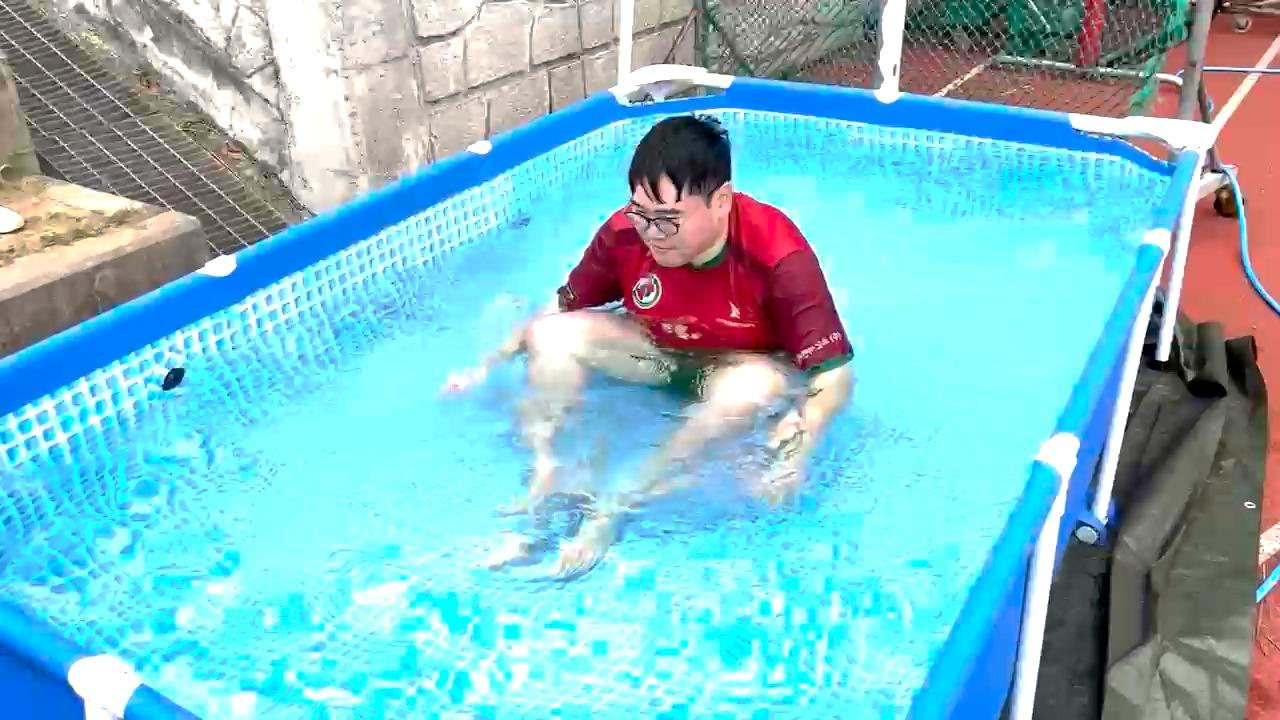Swimming: (380, 95, 944, 604)
